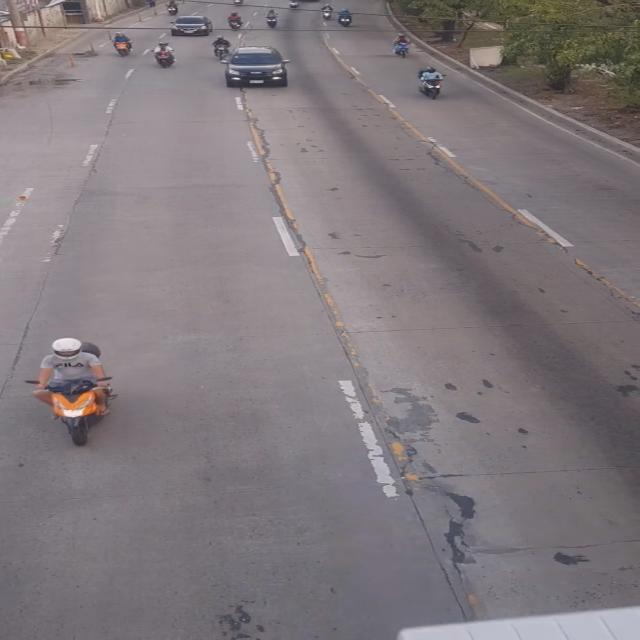car: (225, 44, 292, 92), (168, 14, 210, 37)
motorbike: (46, 338, 116, 443), (417, 62, 444, 102), (155, 32, 176, 71), (114, 28, 132, 56), (392, 31, 408, 61), (212, 38, 233, 56)
